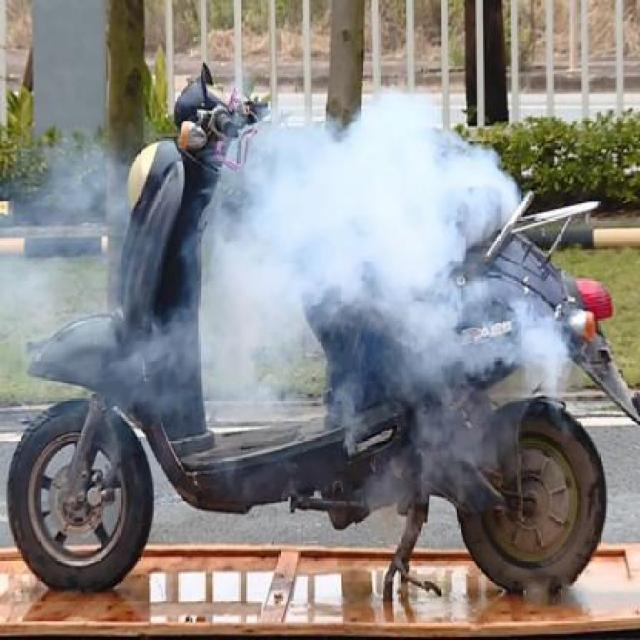Smoke: (202, 109, 516, 414)
